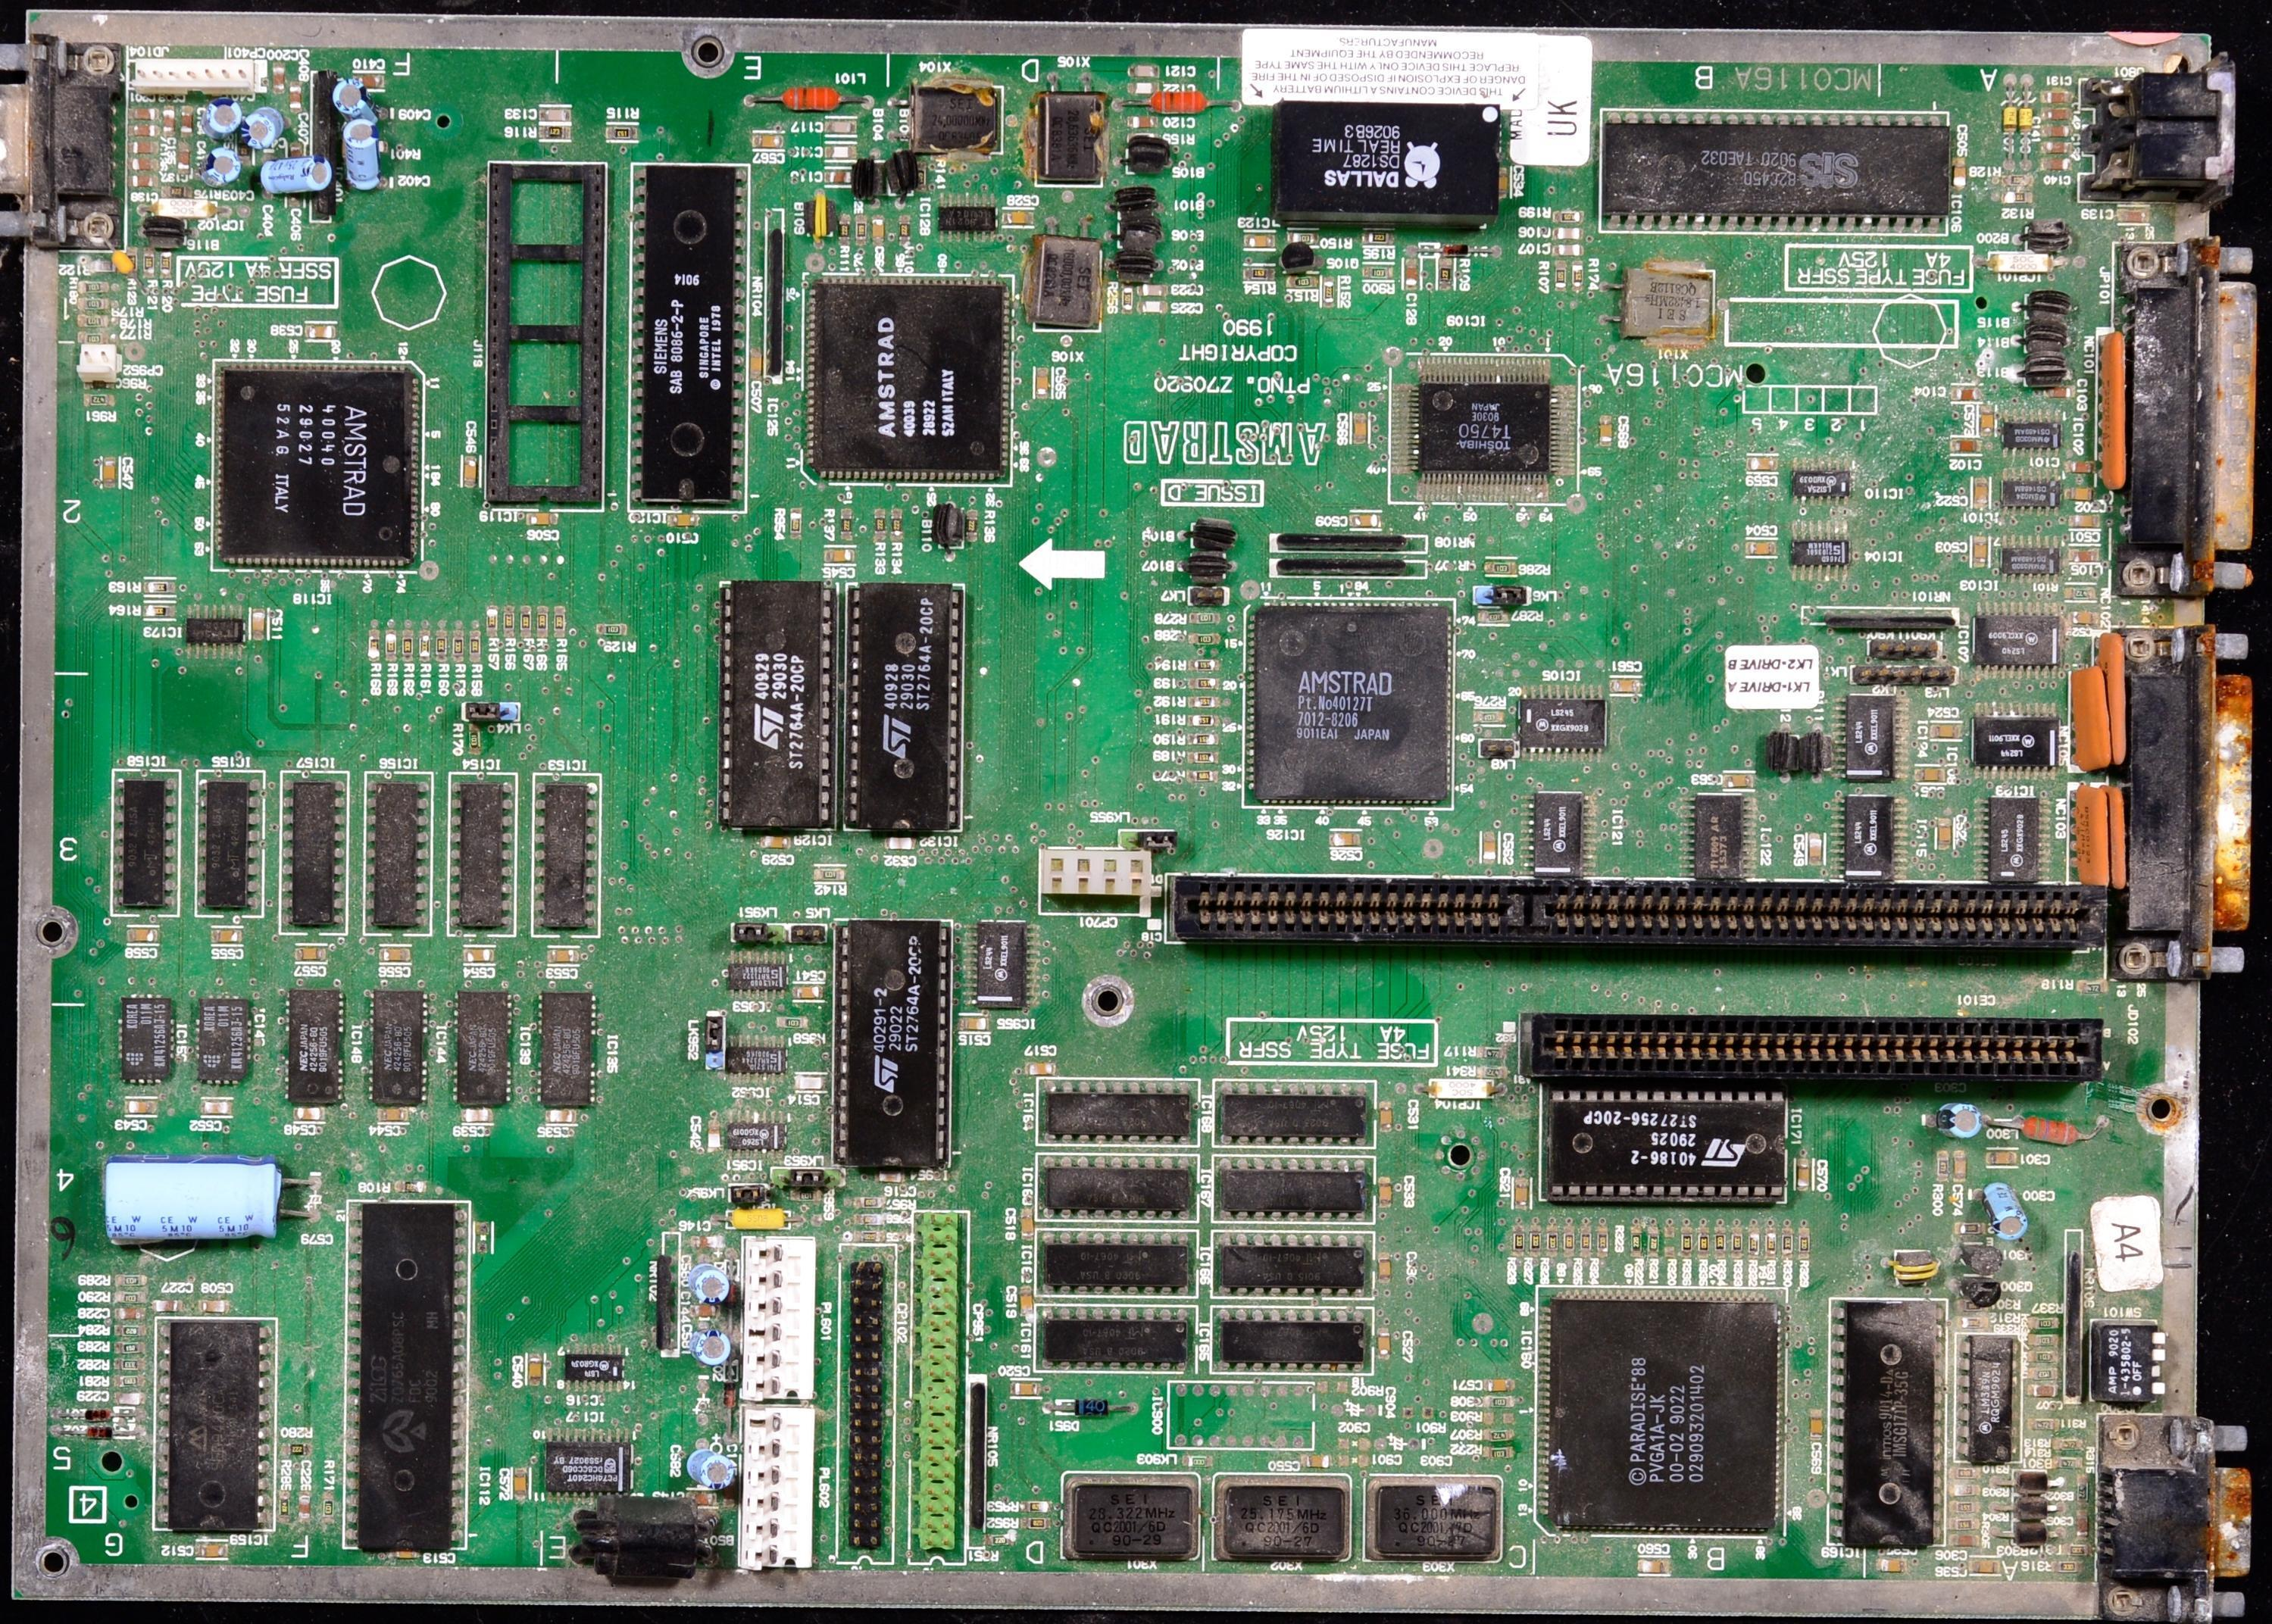Capacitor: (98, 1160, 308, 1246), (342, 120, 383, 192), (334, 79, 389, 129), (256, 159, 328, 193), (686, 1451, 738, 1489), (694, 1261, 736, 1305), (247, 106, 289, 148), (693, 1328, 735, 1366), (199, 151, 240, 189), (205, 96, 239, 136), (1018, 1204, 1046, 1246), (997, 210, 1051, 230), (1019, 1054, 1059, 1082), (687, 1232, 736, 1254), (1968, 473, 1994, 514), (1967, 533, 1992, 574), (958, 1011, 996, 1036), (1349, 407, 1373, 450), (121, 1098, 169, 1119), (293, 1485, 317, 1526), (352, 67, 389, 91), (1477, 829, 1502, 869), (1914, 763, 1949, 789), (510, 1463, 530, 1507), (823, 545, 863, 567), (541, 1108, 587, 1129), (1242, 227, 1277, 251), (110, 1303, 148, 1325), (293, 1102, 325, 1129), (1953, 157, 1970, 204), (2064, 484, 2111, 501), (1745, 535, 1779, 559), (1033, 364, 1053, 405), (2112, 204, 2152, 223), (761, 831, 793, 856), (794, 1070, 827, 1095), (1609, 669, 1642, 694), (797, 982, 833, 1004), (461, 1104, 496, 1124), (370, 1106, 411, 1123), (2061, 457, 2096, 479), (1934, 814, 1954, 851), (1327, 830, 1363, 849), (1019, 1285, 1039, 1323), (1344, 512, 1382, 530), (1744, 454, 1777, 476), (1129, 62, 1161, 83), (98, 458, 121, 489), (2038, 86, 2077, 105), (706, 1110, 724, 1148), (745, 131, 788, 148), (1011, 1378, 1042, 1400), (826, 139, 858, 160), (1554, 238, 1584, 258), (1949, 435, 1981, 456), (1930, 719, 1961, 740), (885, 835, 919, 854), (201, 1095, 234, 1113), (114, 1391, 147, 1409), (178, 142, 196, 176), (1595, 417, 1614, 451), (249, 609, 269, 642), (1720, 771, 1761, 787), (459, 458, 480, 488), (2043, 105, 2079, 122), (526, 1356, 543, 1391), (2064, 546, 2108, 561), (2061, 610, 2095, 627), (825, 167, 858, 187), (1948, 383, 1978, 402), (1807, 834, 1824, 866), (538, 105, 570, 123), (2040, 138, 2074, 155), (689, 1488, 722, 1506), (1136, 283, 1173, 298), (823, 119, 859, 136), (128, 139, 164, 155), (871, 212, 889, 244), (1403, 259, 1419, 291), (304, 324, 336, 341), (1142, 298, 1170, 317), (1977, 403, 1995, 431), (2067, 513, 2095, 533), (1127, 114, 1159, 130), (288, 189, 308, 217), (271, 63, 286, 95), (128, 106, 159, 121), (161, 105, 177, 135), (127, 121, 162, 136), (692, 1300, 715, 1322), (287, 80, 303, 109), (670, 513, 700, 529), (1129, 82, 1161, 96), (2046, 155, 2073, 173), (2045, 123, 2074, 139), (151, 1298, 183, 1311), (127, 172, 158, 187), (1555, 226, 1583, 242), (749, 351, 764, 380), (2041, 386, 2077, 399), (286, 140, 303, 167), (523, 514, 558, 528), (127, 158, 158, 171), (180, 107, 194, 133), (192, 1297, 228, 1306)
IC: (1532, 1284, 1784, 1541), (1244, 595, 1453, 809), (215, 359, 426, 570), (213, 361, 424, 572), (480, 158, 605, 508), (1597, 111, 1949, 233), (802, 275, 1007, 484), (349, 1195, 467, 1553), (632, 160, 751, 511), (1389, 346, 1579, 510), (841, 580, 963, 837), (836, 918, 953, 1176), (723, 577, 833, 840), (1830, 1295, 1942, 1555), (1540, 1088, 1786, 1204), (152, 1313, 278, 1539), (192, 742, 267, 921), (1031, 1145, 1195, 1228), (1203, 1298, 1371, 1376), (1027, 1302, 1199, 1379), (1209, 1225, 1379, 1297), (1211, 1079, 1375, 1153), (361, 768, 435, 932), (281, 767, 350, 935), (1213, 1157, 1377, 1226), (1033, 1070, 1194, 1141), (536, 776, 604, 938), (111, 768, 180, 921), (448, 772, 511, 926), (536, 988, 604, 1121), (1952, 1332, 2020, 1467), (1514, 673, 1611, 757), (1674, 791, 1758, 882), (281, 986, 345, 1104), (966, 918, 1042, 1013), (1970, 601, 2058, 682), (453, 988, 510, 1112), (1833, 795, 1911, 882), (1974, 798, 2053, 883), (1520, 787, 1599, 873), (1974, 701, 2059, 779), (194, 994, 256, 1091), (368, 992, 426, 1101), (1836, 692, 1906, 776), (542, 1426, 625, 1493), (130, 995, 179, 1092), (1786, 450, 1863, 509), (185, 600, 248, 664), (554, 1342, 630, 1396), (718, 950, 797, 994), (2000, 406, 2065, 459), (1790, 522, 1851, 579), (2002, 464, 2064, 517), (1998, 533, 2064, 579), (718, 1113, 790, 1154), (730, 1033, 783, 1085), (937, 195, 1001, 235)
Resistor: (108, 245, 142, 286), (1435, 254, 1458, 294), (1360, 229, 1396, 249), (140, 601, 178, 622), (858, 1225, 890, 1248), (1361, 262, 1394, 284), (1480, 557, 1519, 576), (536, 120, 569, 140), (113, 1371, 145, 1391), (320, 1489, 341, 1522), (853, 1209, 887, 1228), (113, 1322, 148, 1338), (964, 508, 981, 545), (605, 123, 637, 142), (73, 276, 108, 295), (1999, 176, 2039, 192), (75, 329, 115, 344), (1283, 227, 1318, 244), (76, 295, 111, 314), (117, 1285, 147, 1304), (885, 509, 905, 541), (86, 389, 114, 411), (1286, 273, 1319, 291), (1320, 275, 1337, 307), (1186, 732, 1220, 748), (158, 183, 195, 199), (870, 506, 885, 542), (1568, 262, 1586, 292), (1188, 766, 1220, 784), (278, 1439, 312, 1455), (2066, 582, 2093, 603), (855, 1192, 884, 1210), (1552, 258, 1565, 298), (1188, 750, 1221, 766), (485, 604, 500, 638), (502, 606, 516, 640), (2001, 191, 2038, 205), (77, 314, 114, 327), (536, 604, 549, 639), (435, 629, 448, 666), (1188, 611, 1223, 626), (467, 629, 482, 664), (141, 251, 159, 276), (788, 508, 803, 539), (837, 508, 853, 539), (414, 629, 431, 659), (595, 623, 629, 636), (521, 603, 533, 640), (1127, 130, 1159, 145), (851, 214, 866, 242), (838, 217, 854, 244), (123, 248, 139, 276), (142, 579, 174, 593), (367, 629, 382, 661), (990, 1529, 1010, 1551), (279, 1486, 292, 1522), (158, 250, 175, 275), (555, 605, 568, 639), (116, 1341, 145, 1355), (1552, 210, 1582, 223), (86, 377, 117, 392), (1188, 714, 1218, 727), (115, 1274, 149, 1287), (401, 629, 413, 662), (453, 631, 465, 664), (1027, 1501, 1055, 1514), (1240, 265, 1269, 280), (113, 1359, 149, 1369), (384, 631, 398, 662), (1189, 697, 1220, 707), (1023, 1514, 1052, 1527), (1189, 658, 1220, 671), (898, 215, 911, 242), (1120, 288, 1133, 313), (1186, 679, 1218, 689), (1188, 630, 1214, 642)
Transistor: (1280, 242, 1319, 270), (2001, 95, 2019, 136), (2022, 100, 2033, 137)
